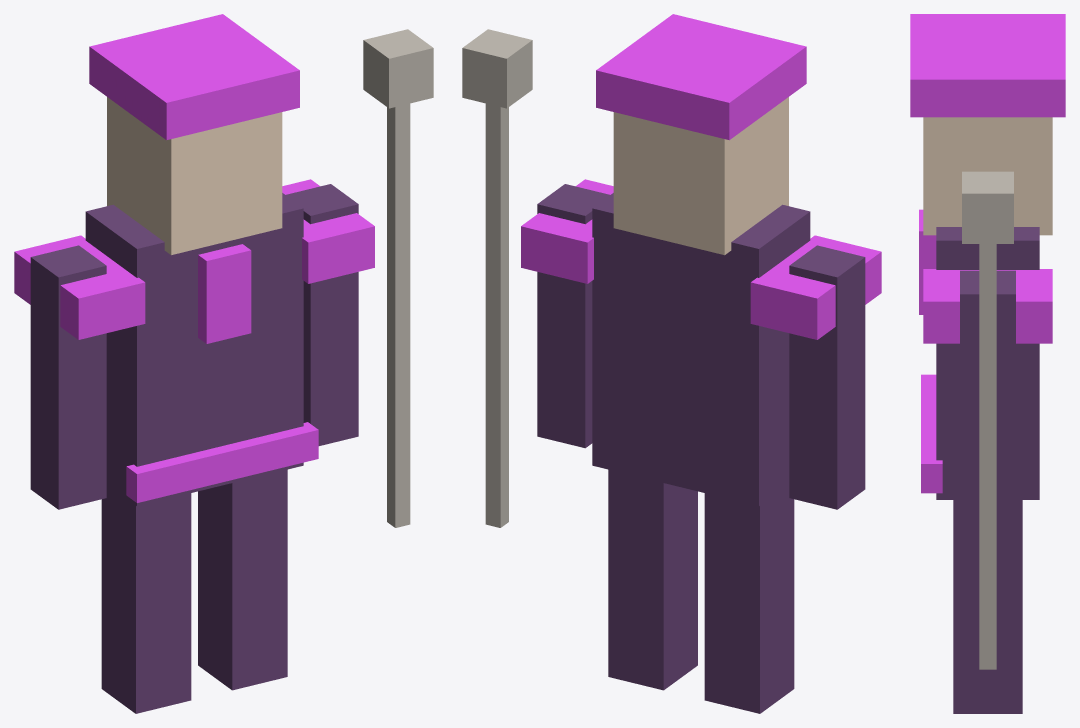
Rendered from 03_elo_voxmere_specialist_of_transit.glb.
3 views of the same model, side by side, from view 1: azimuth 30°, elevation 25°; view 2: azimuth 150°, elevation 25°; view 3: azimuth 270°, elevation 25° (orthographic).
Visible parts, largest first — view 1: Elo Voxmere, Specialist of Transit; view 2: Elo Voxmere, Specialist of Transit; view 3: Elo Voxmere, Specialist of Transit.
Boxes of the visible parts, left/top/right/bottom form: Elo Voxmere, Specialist of Transit: left=14, top=14, right=433, bottom=713; Elo Voxmere, Specialist of Transit: left=462, top=14, right=881, bottom=713; Elo Voxmere, Specialist of Transit: left=910, top=14, right=1065, bottom=713.
Size of the model in its own units: 0.953 by 1.51 by 0.338.
